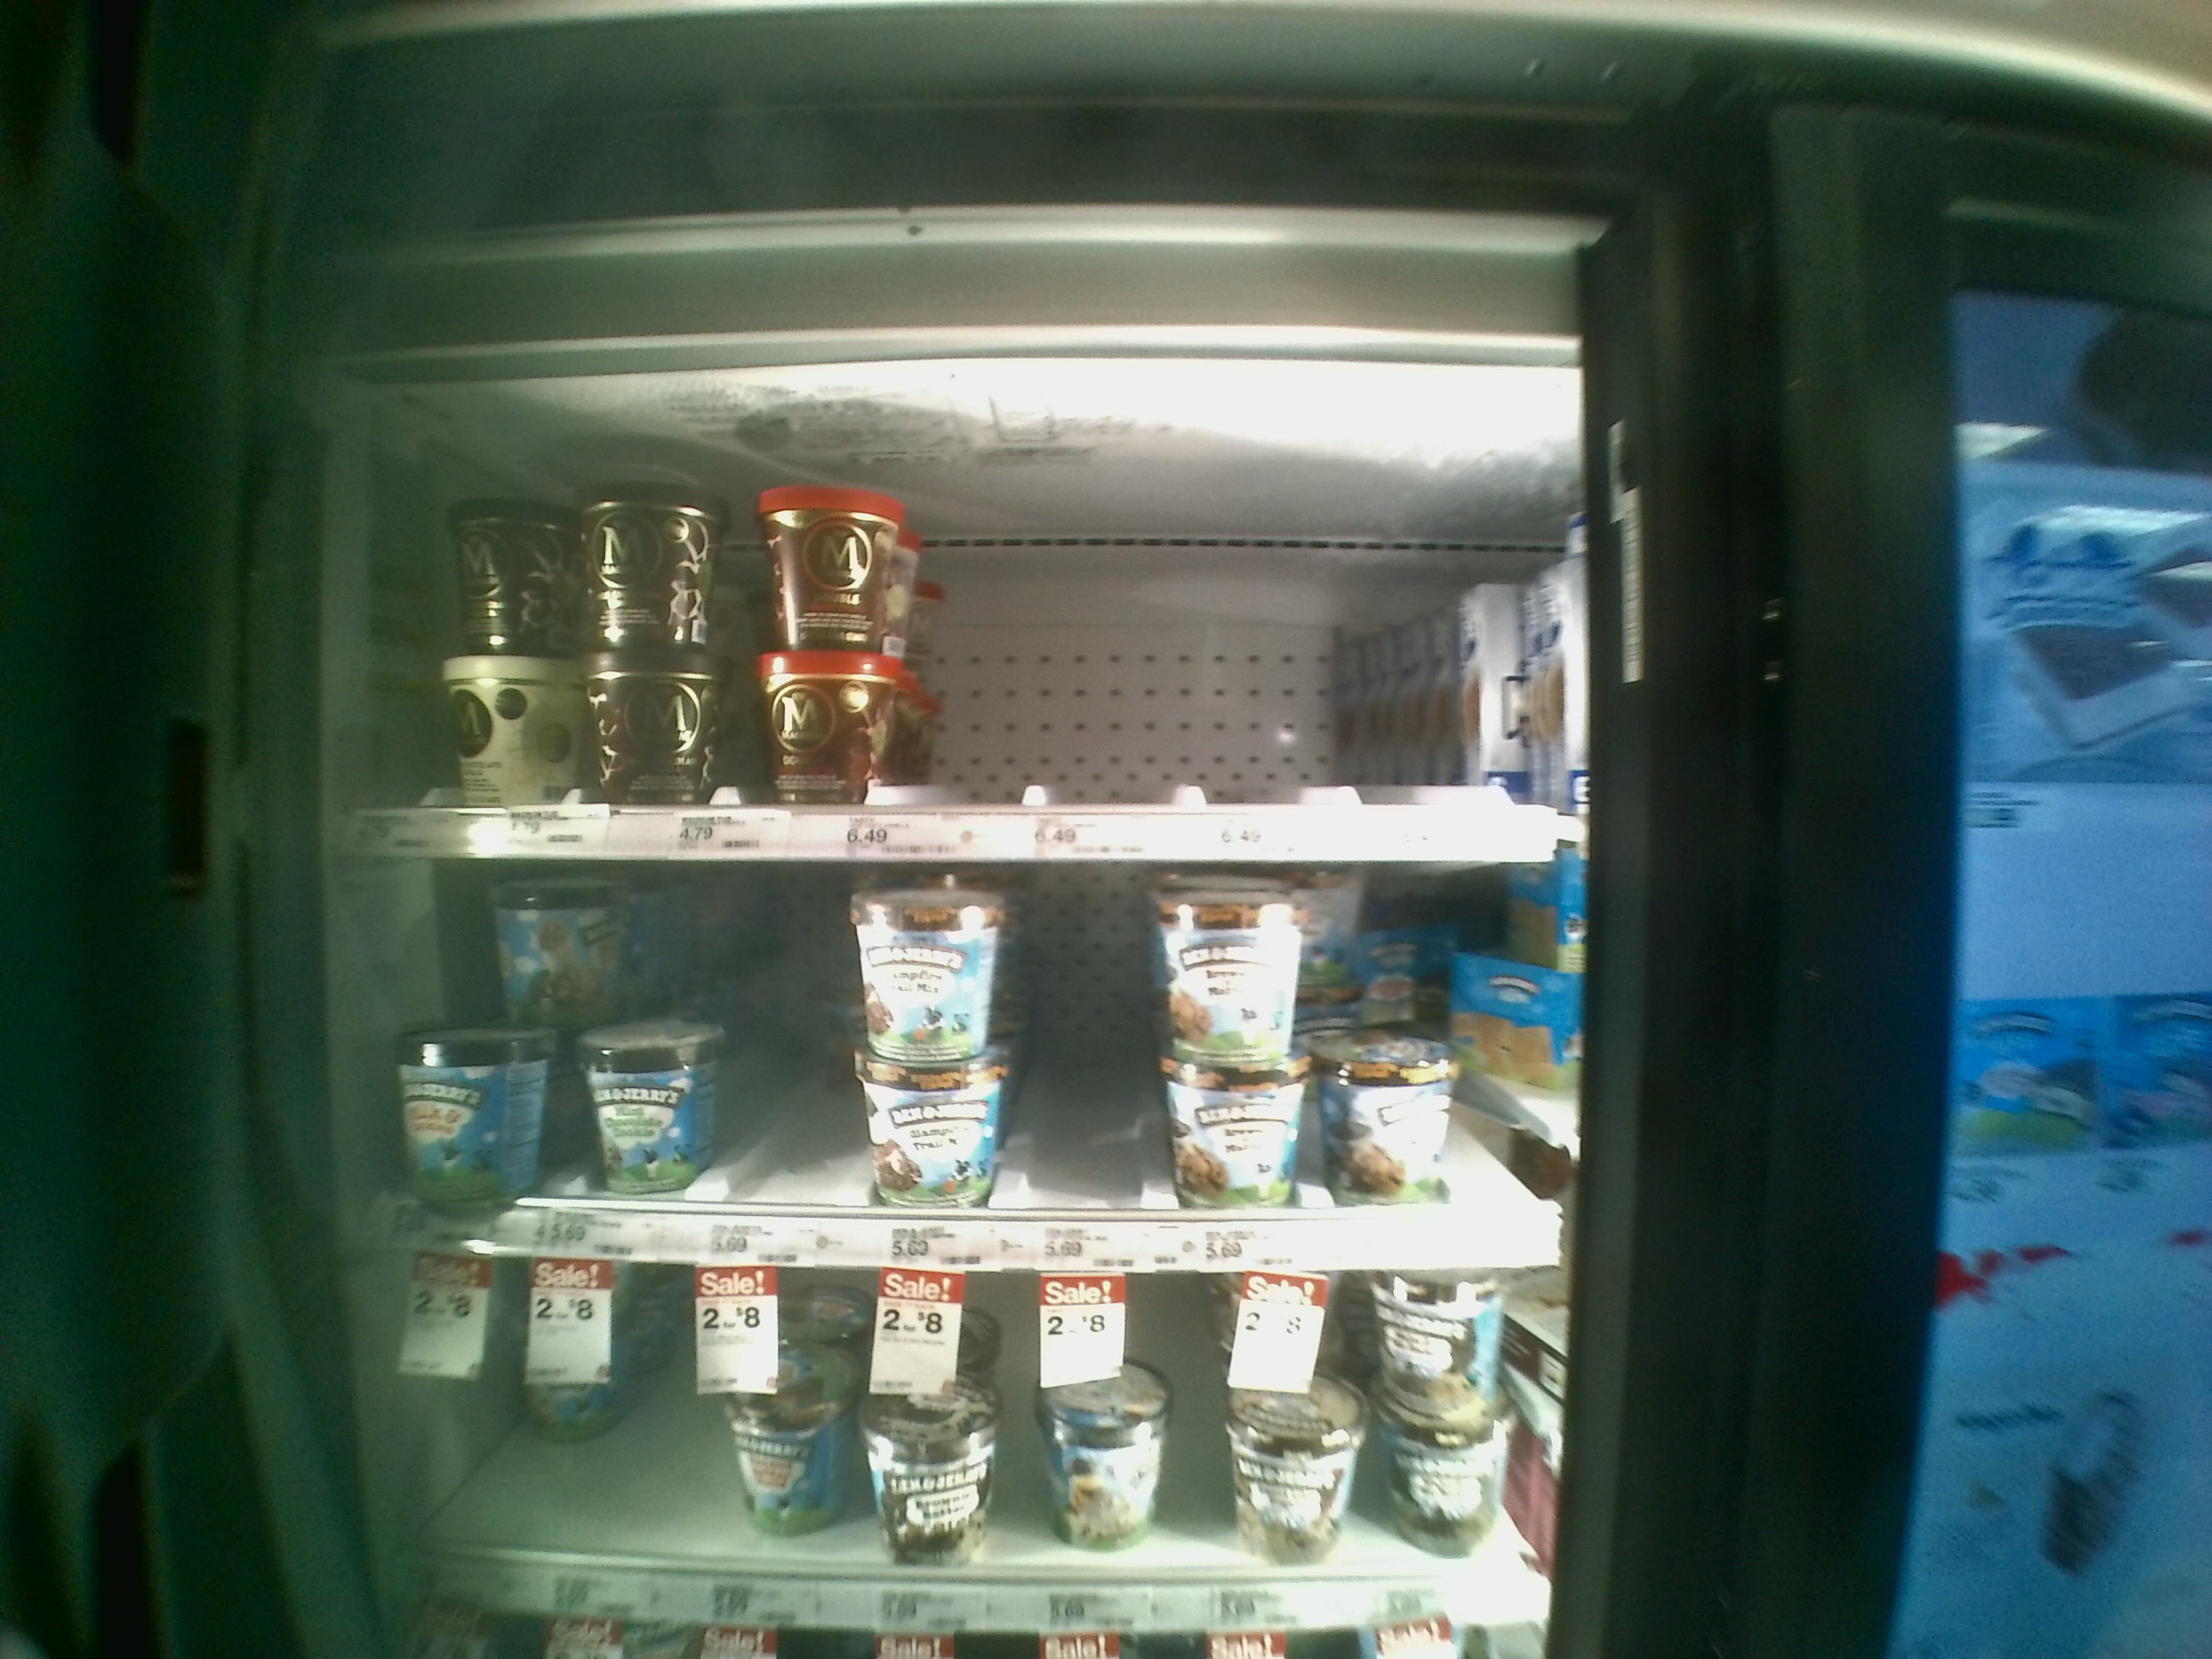shelf: (350, 408, 1599, 857), (361, 859, 1575, 1274), (348, 1276, 1575, 1645)
